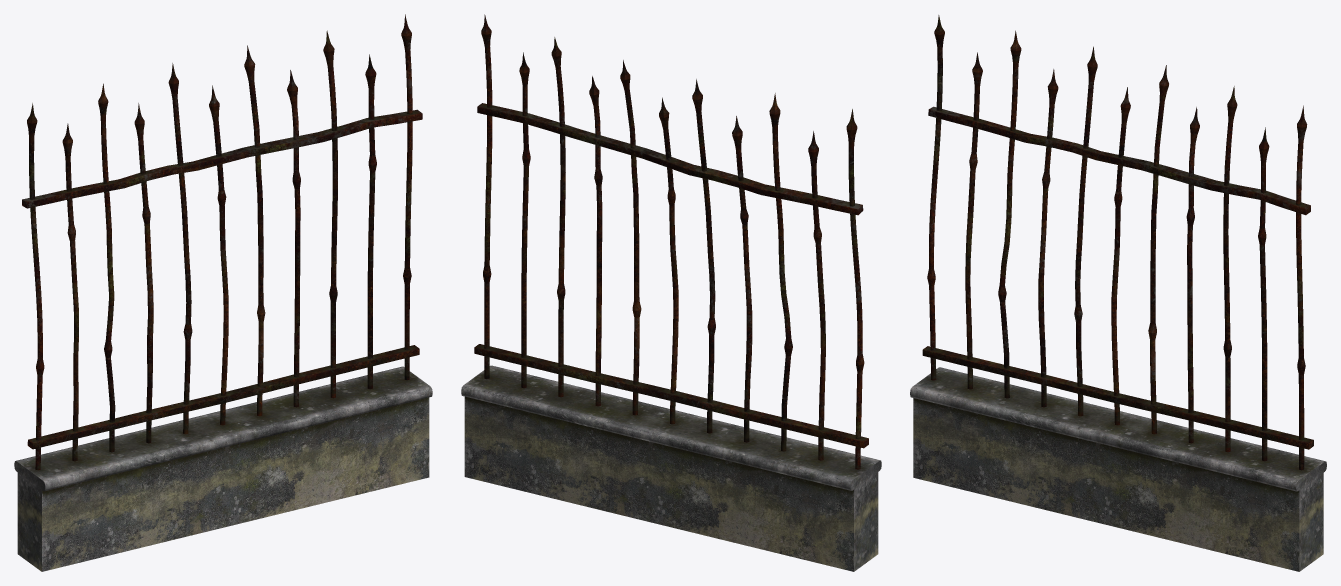
The model's file is SM_fence_33.fbx.
3 views of the same model, side by side, from view 1: azimuth 30°, elevation 25°; view 2: azimuth 150°, elevation 25°; view 3: azimuth 330°, elevation 25° (orthographic).
Parts seen in each view (by area): view 1: SM_fence_33; view 2: SM_fence_33; view 3: SM_fence_33.
Boxes of the visible parts, left/top/right/bottom form: SM_fence_33: left=14, top=14, right=432, bottom=571; SM_fence_33: left=461, top=14, right=881, bottom=571; SM_fence_33: left=910, top=15, right=1326, bottom=571.
Bounding box in the file's own units: 341 × 383 × 46.92.
